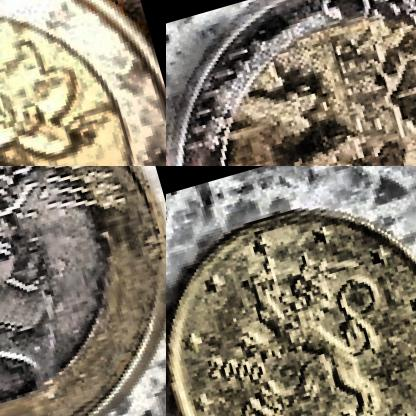coin: (166, 181, 415, 415), (166, 0, 415, 165), (0, 166, 165, 415), (0, 0, 165, 165)
